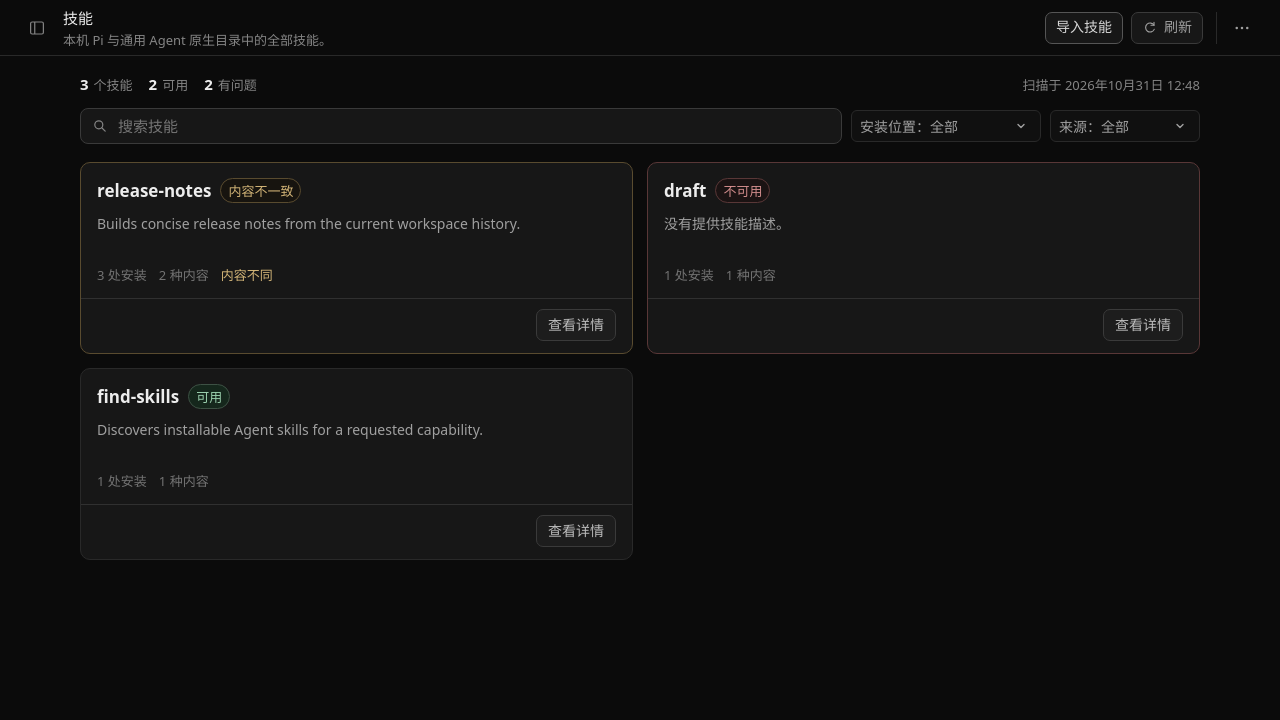
SkillsView management acceptance › groups by exact name and separates content variants by hash
expect the element with class "skill-card" shows "3 处安装": met, box [97, 266, 147, 284]
expect the element with class "skill-card" shows "2 种内容": met, box [159, 266, 209, 284]
Click the button "查看详情" below "内容不一致": click(576, 325) [536, 309, 616, 341]
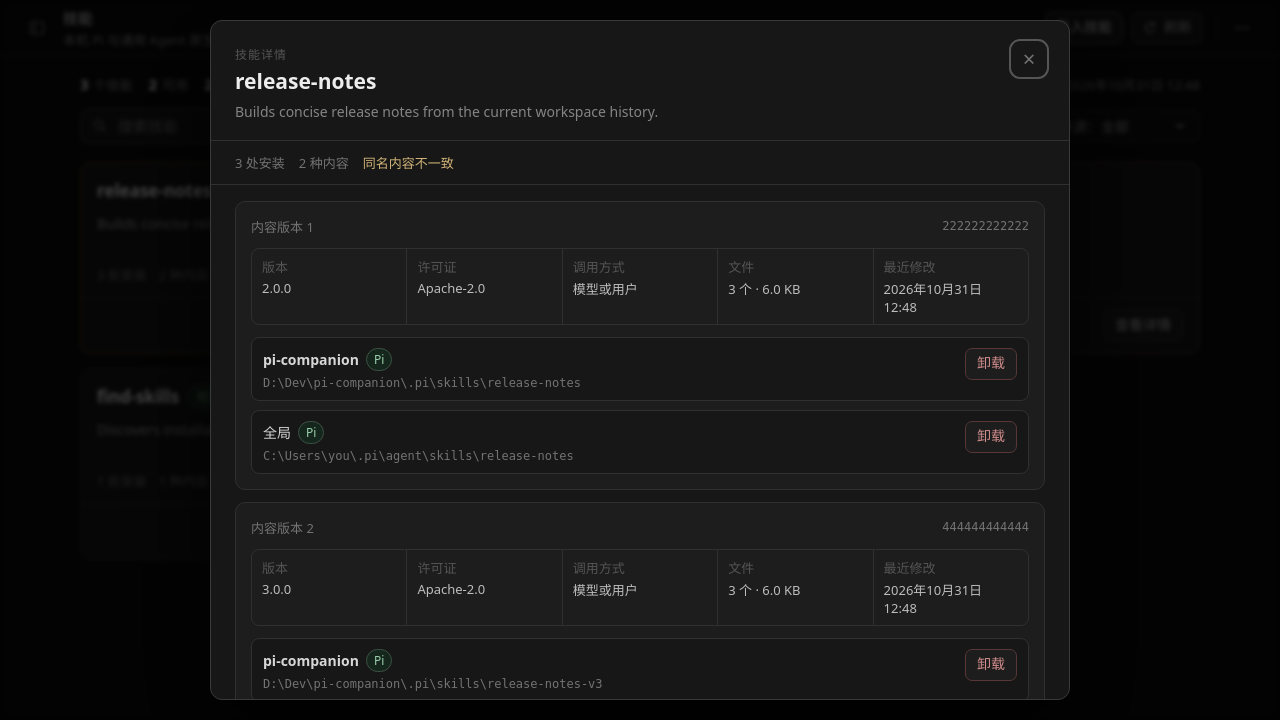
expect the number of elements with class "skill-variant" is 2: met, box [235, 200, 1045, 490]; [235, 502, 1045, 699]
expect the number of elements with class "skill-installation" is 3: met, box [251, 336, 1029, 400]; [251, 410, 1029, 474]; [251, 638, 1029, 699]
expect the dialog with class "skill-detail-dialog" shows "同名内容不一致": met, box [363, 154, 454, 172]
